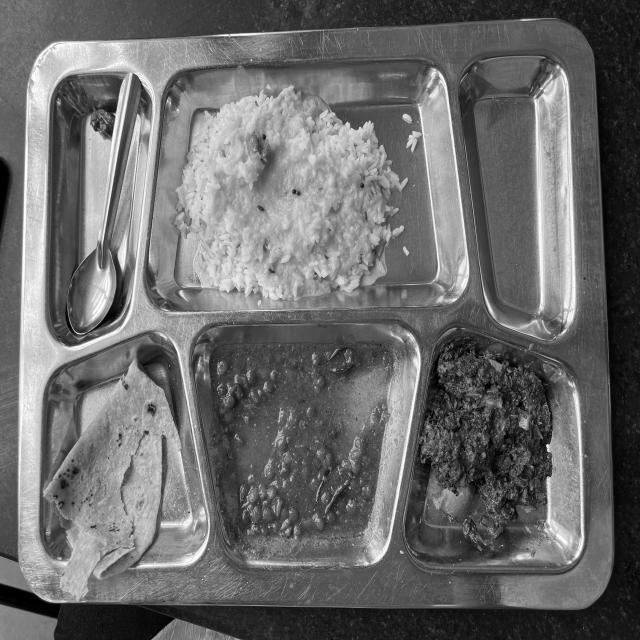100.10- Food Left: (41, 51, 592, 583)
